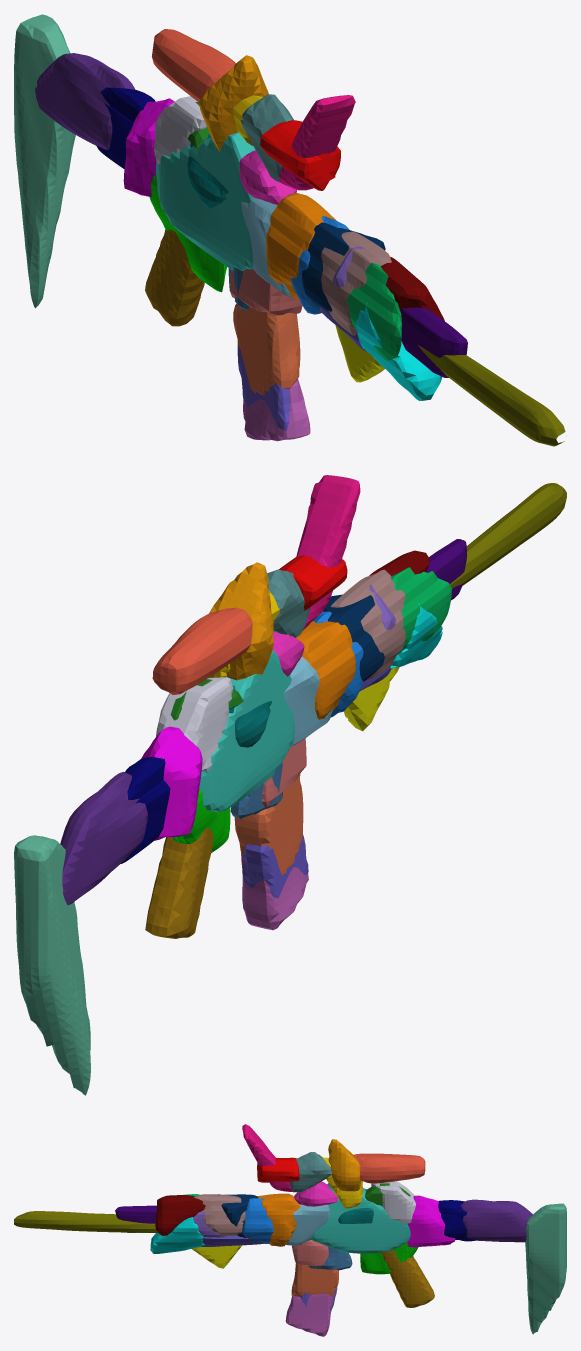
3 renders of one model, top to bottom at view 1: azimuth 30°, elevation 25°; view 2: azimuth 150°, elevation 25°; view 3: azimuth 270°, elevation 25°, orthographic. The views are drawn at different scales.
Parts seen in each view (by area): view 1: 1b4484ff850e4580a96eb29ade0c98a4_l02; view 2: 1b4484ff850e4580a96eb29ade0c98a4_l02; view 3: 1b4484ff850e4580a96eb29ade0c98a4_l02.
Part boxes in pixels (x1,y1,x2,y2): 1b4484ff850e4580a96eb29ade0c98a4_l02: (14, 14, 565, 446); 1b4484ff850e4580a96eb29ade0c98a4_l02: (14, 475, 566, 1095); 1b4484ff850e4580a96eb29ade0c98a4_l02: (14, 1124, 566, 1336).
Bounding box in the file's own units: 0.1422 × 0.84 × 1.98.
